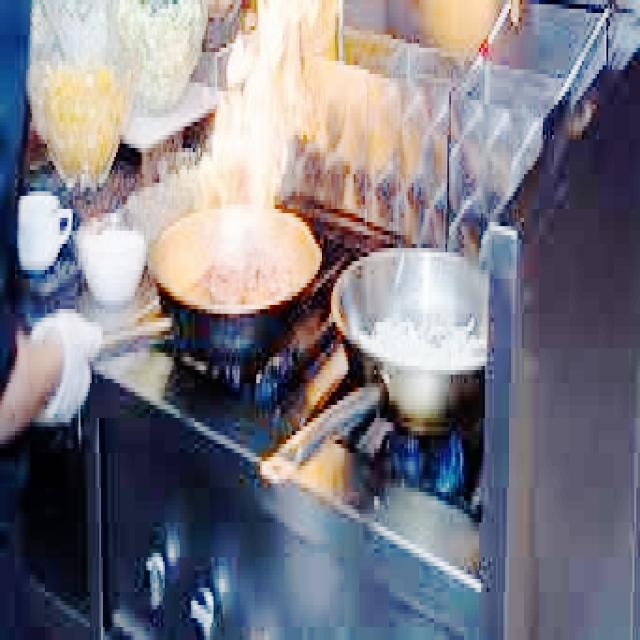api: (187, 19, 331, 315)
